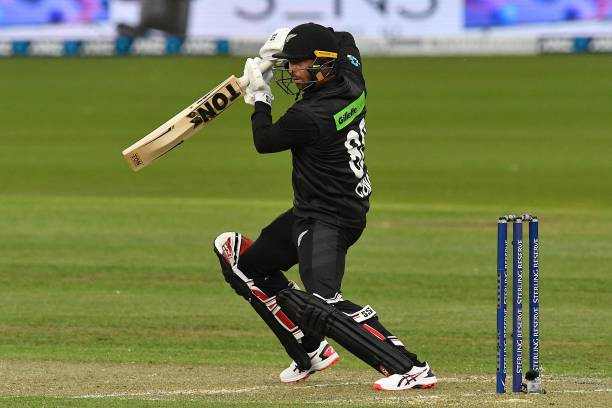bottom left: (113, 143, 132, 161)
bottom right: (127, 162, 149, 177)
top left: (224, 67, 239, 84)
top right: (233, 88, 248, 101)
